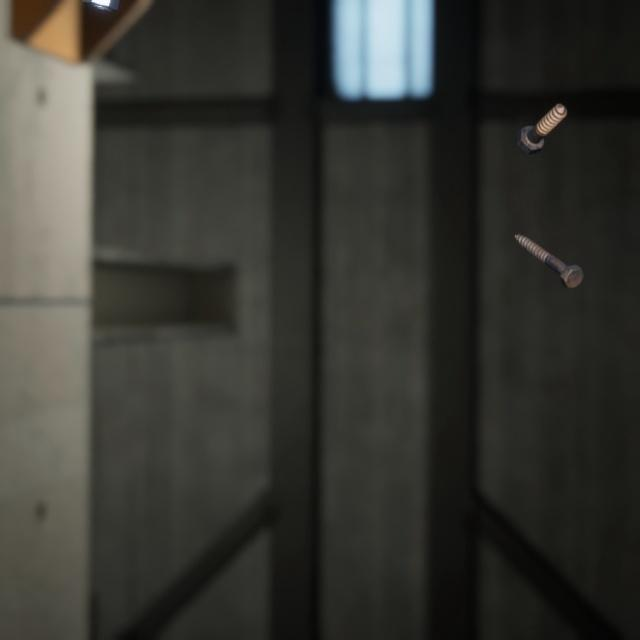bolt: (510, 213, 588, 276), (512, 86, 571, 146)
